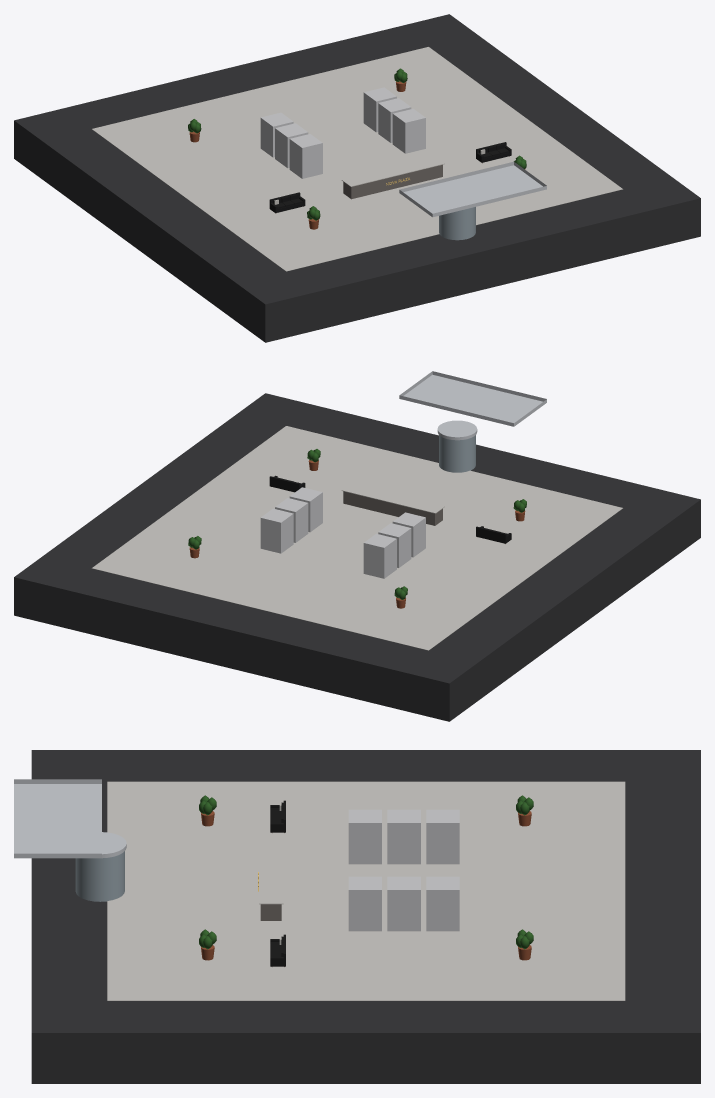
File: bina_15_ic.glb
3 views of the same model, one above another, from view 1: azimuth 30°, elevation 25°; view 2: azimuth 150°, elevation 25°; view 3: azimuth 270°, elevation 25° (orthographic). The views are drawn at different scales.
Visible parts, largest first — view 1: P15_ic; view 2: P15_ic; view 3: P15_ic.
Part boxes in pixels (box(x1,y1,x2,y2)): P15_ic: box(14, 14, 700, 342); P15_ic: box(14, 371, 700, 721); P15_ic: box(14, 750, 700, 1083).
Size of the model in its own units: 38 by 7.9 by 39.
